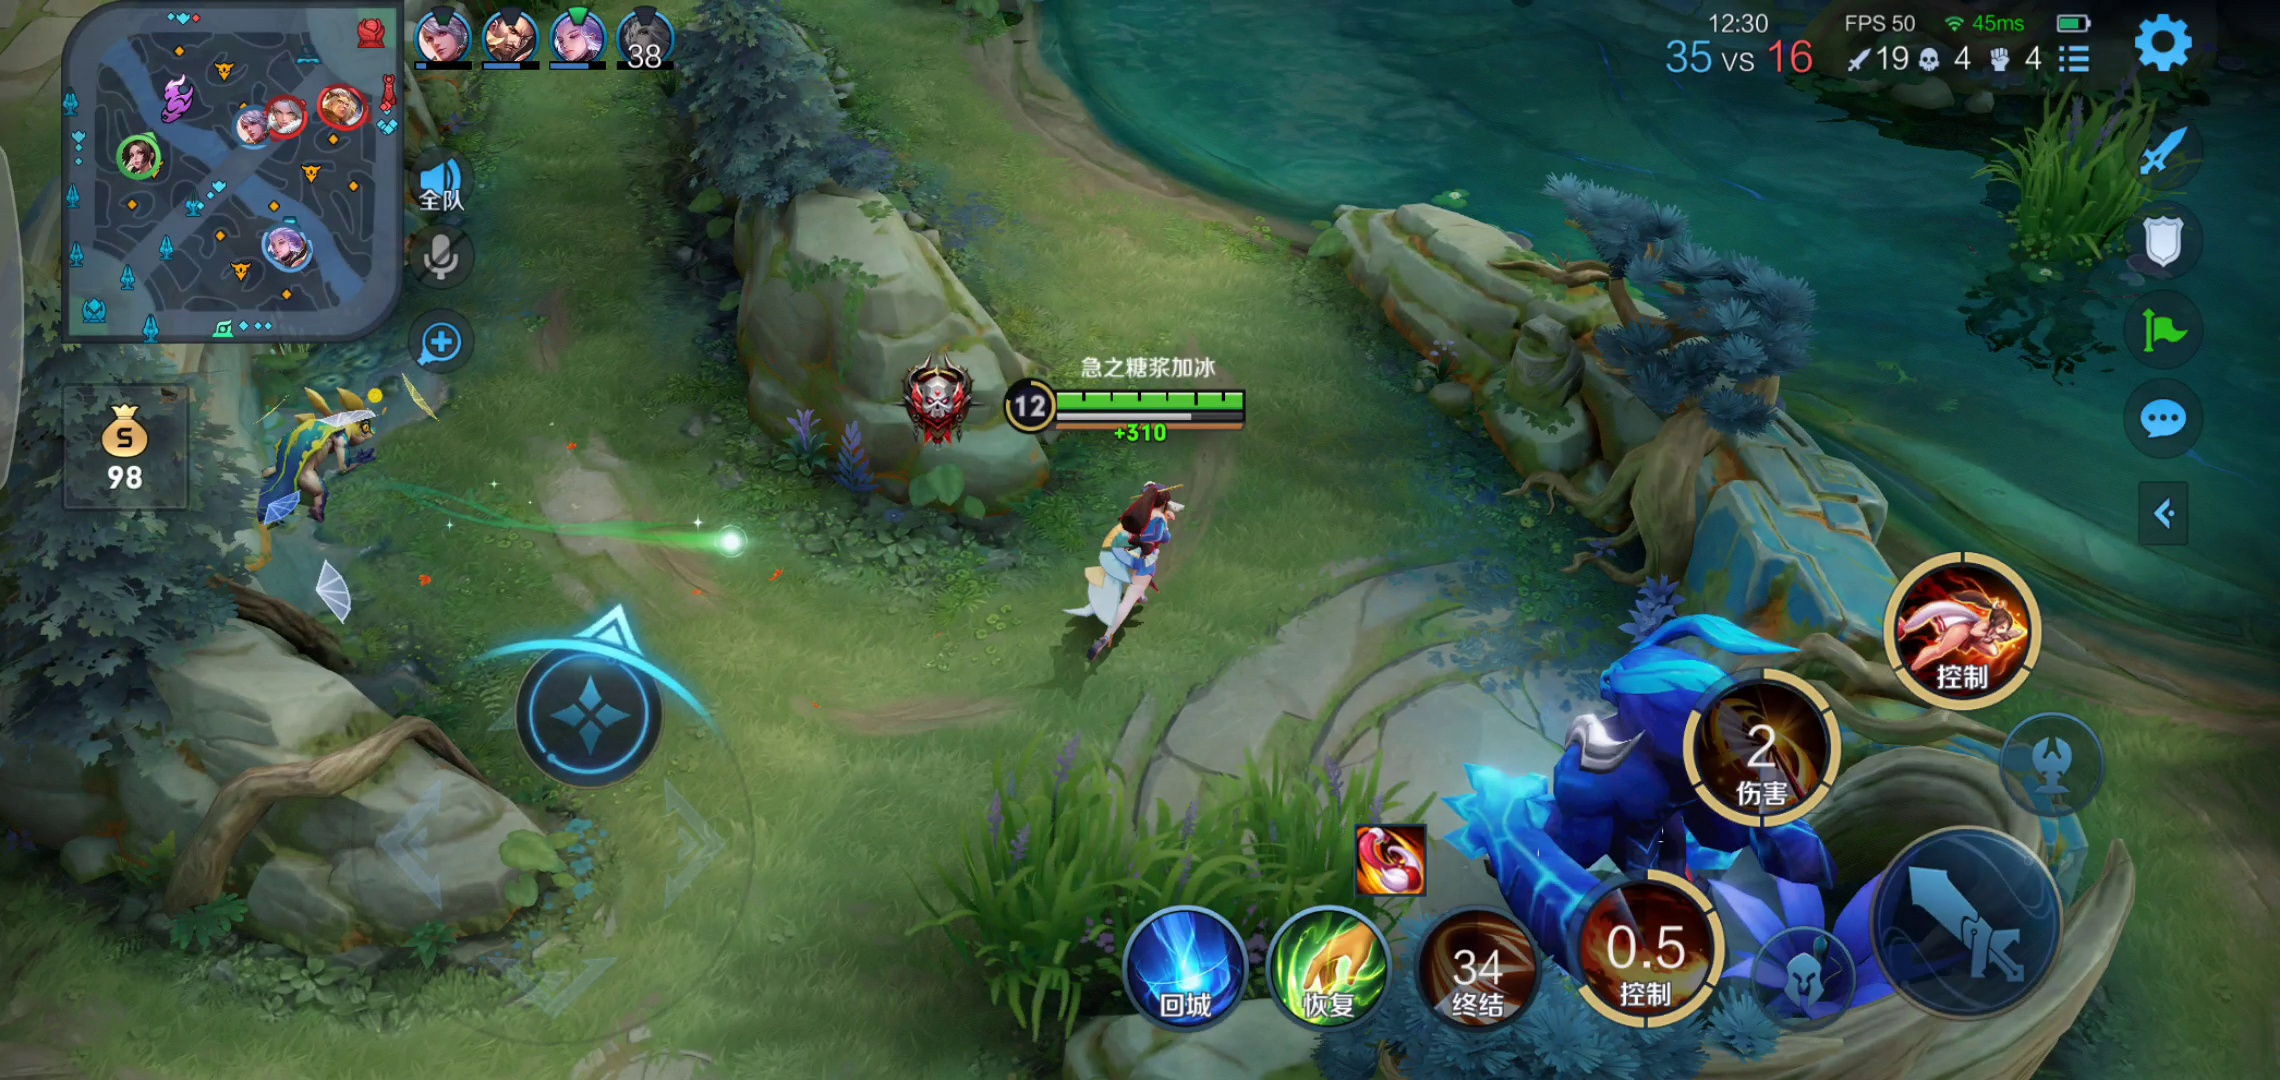buff: (1461, 597, 1837, 1031)
grass: (915, 759, 1425, 1031), (1992, 90, 2168, 301)
hero: (1059, 468, 1187, 658)
wild_monster: (244, 388, 419, 541)
